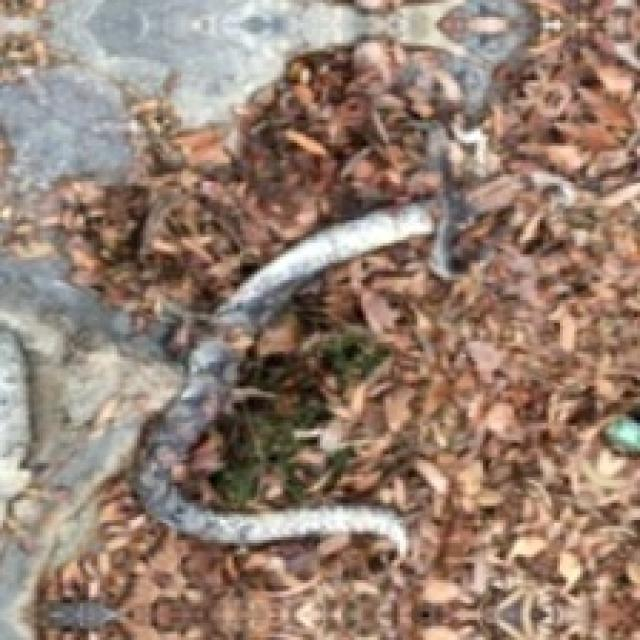reticulated python: (136, 200, 434, 556), (460, 170, 576, 227)
